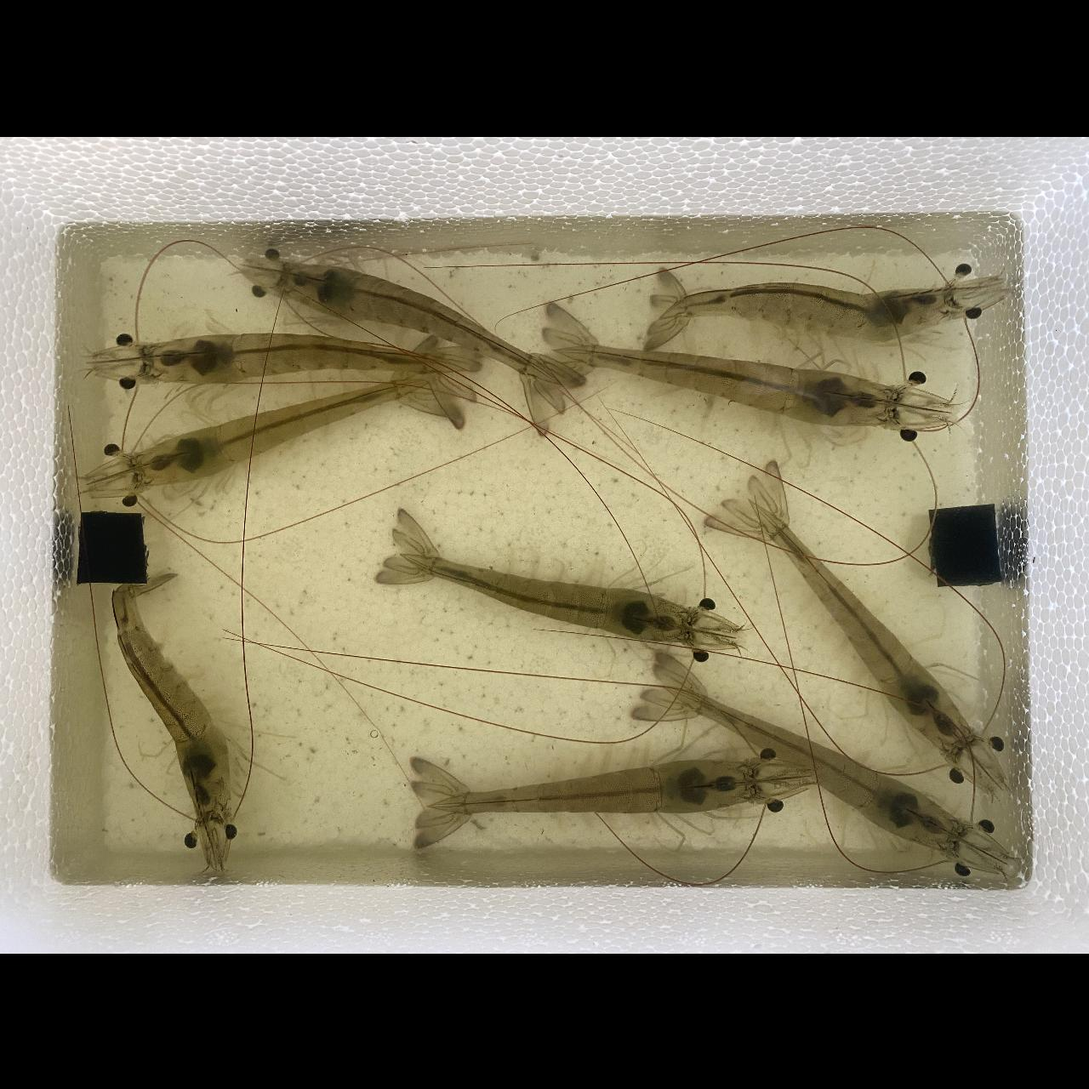box: (930, 504, 1004, 585), (77, 510, 147, 583)
side_shrimp: (111, 577, 228, 826)
top_shrimp: (749, 498, 974, 758), (660, 682, 963, 857), (284, 263, 560, 385), (139, 374, 436, 485), (552, 344, 903, 428), (403, 551, 694, 643), (425, 760, 760, 815), (665, 281, 957, 343), (143, 332, 468, 383)
